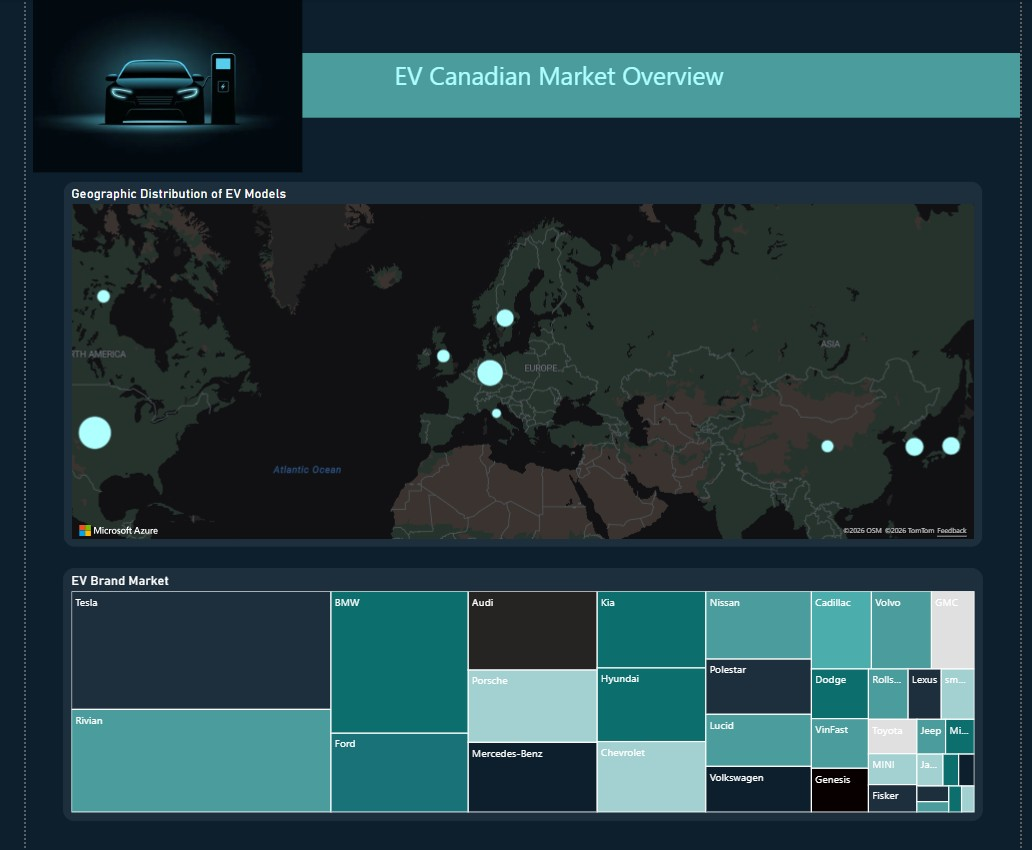

The dashboard page shown, as its layout file describes it:
{"tool":"powerbi","page":{"name":"EV Market Overview","canvas":[1280,1100],"ordinal":0},"visuals":[{"type":"textbox","box":[93,68.4,1187.6,83.5],"z":0},{"type":"image","box":[0,0,365.3,221.6],"z":1000},{"type":"treemap","title":"EV Brand Market","fields":{"Details":["EV Energy Efficiency Dataset.Brand"],"Values":["CountNonNull(EV Energy Efficiency Dataset.Model)"]},"box":[47.9,732,1184.8,325.6],"z":2000},{"type":"azureMap","title":"Geographic Distribution of EV Models","fields":{"Category":["EV Energy Efficiency Dataset.Country of Origin"],"Size":["Count(EV Energy Efficiency Dataset.Model)"]},"box":[47.9,232.6,1184.8,472],"z":3000}]}

Visuals, with their boxes on the page's 1280x1100 design canvas (x1, y1, x2, y2). These are canvas units, not pixel positions in the 1032x850 screenshot, which may show the page scaled, cropped or inside an application window:
textbox: [93, 68, 1281, 152]
image: [0, 0, 365, 222]
"EV Brand Market" treemap: [48, 732, 1233, 1058]
"Geographic Distribution of EV Models" azureMap: [48, 233, 1233, 705]
